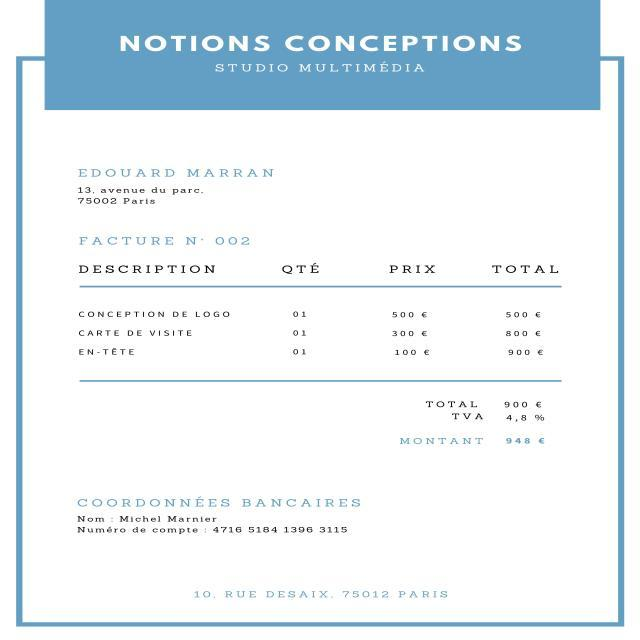customer_address: (74, 183, 206, 210)
customer_name: (74, 161, 275, 181)
invoice_number: (212, 234, 256, 250)
invoice_subtotal: (502, 397, 550, 410)
invoice_total: (500, 432, 549, 447)
item_description: (75, 307, 243, 363)
item_quantity: (283, 302, 314, 362)
item_total_price: (501, 302, 550, 369)
item_unit_price: (379, 306, 440, 367)
supplier_address: (190, 582, 453, 604)
supplier_name: (103, 27, 532, 80)
tax_rate: (502, 410, 552, 423)
